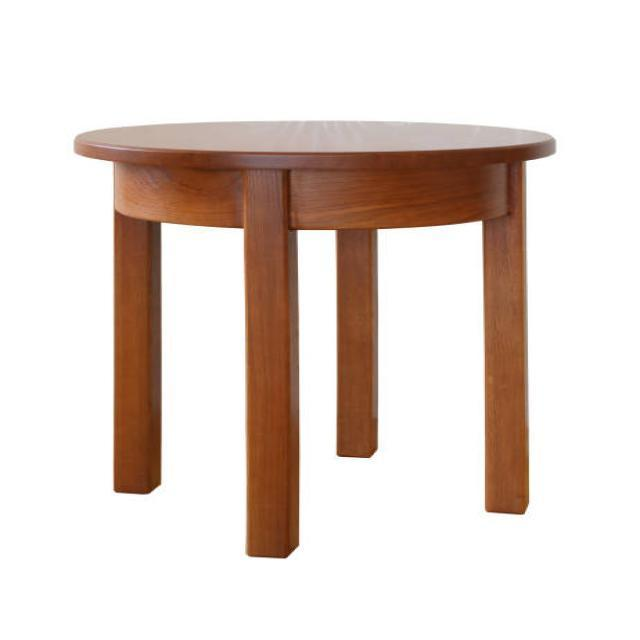table: (72, 118, 556, 558)
